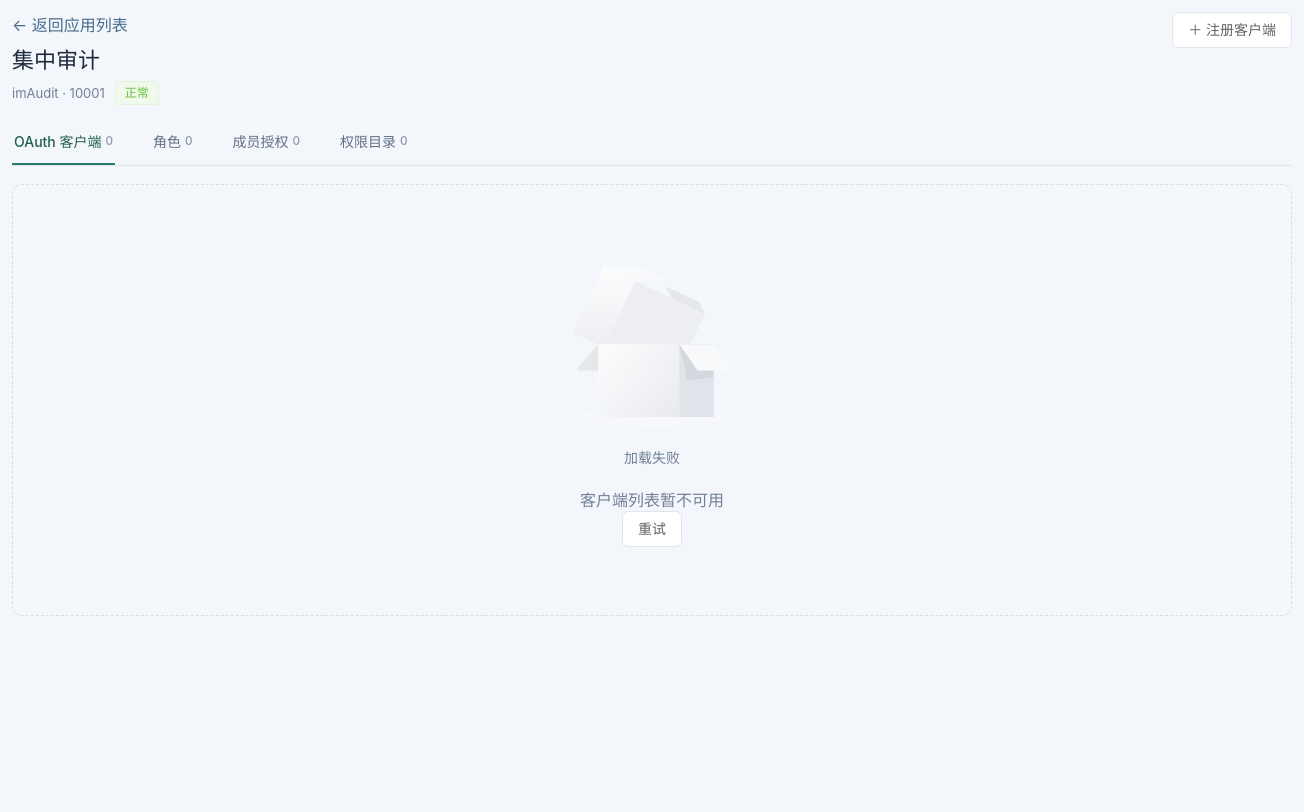
Test: application detail workspace › shows recoverable client loading failures and retry
Click the button with test id "clients-retry" at (652, 529), box [622,511,682,547]
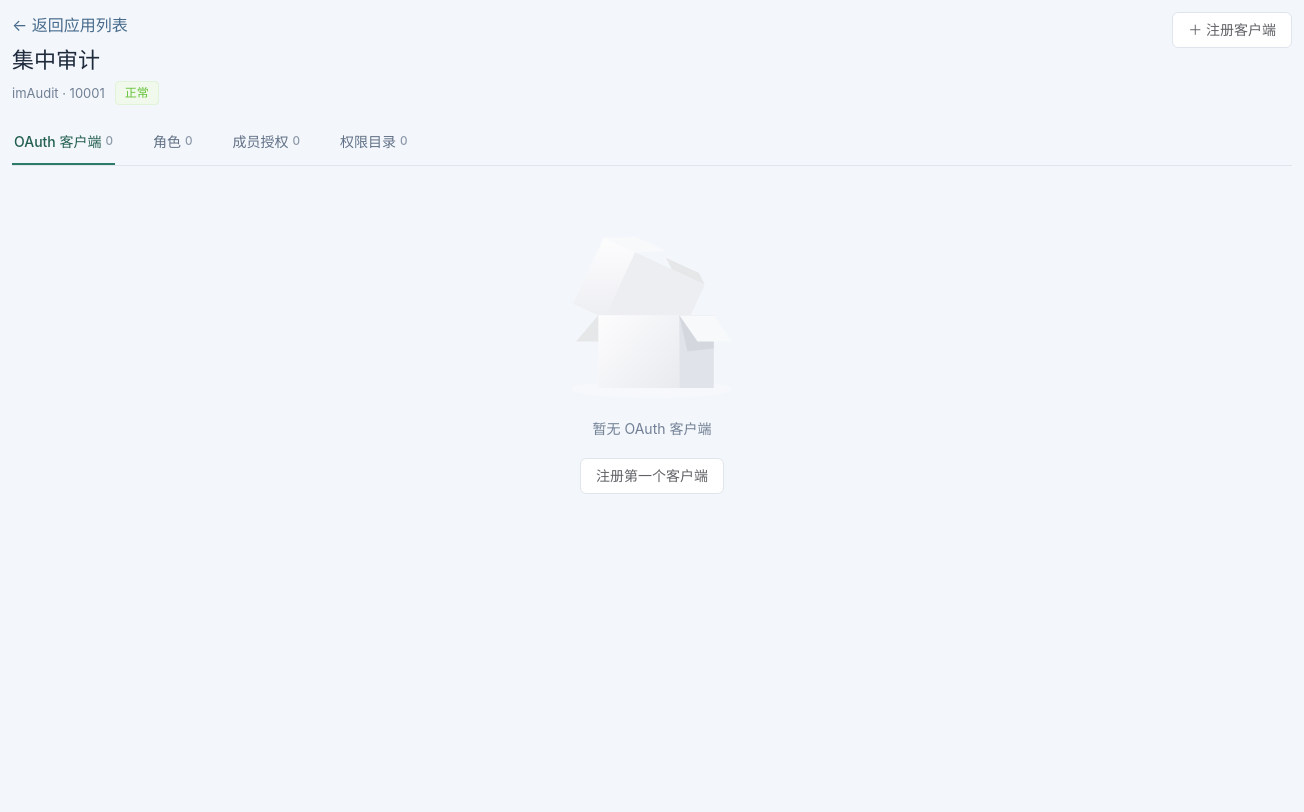
expect the text "暂无 OAuth 客户端" is shown: met, box [592,418,711,438]
